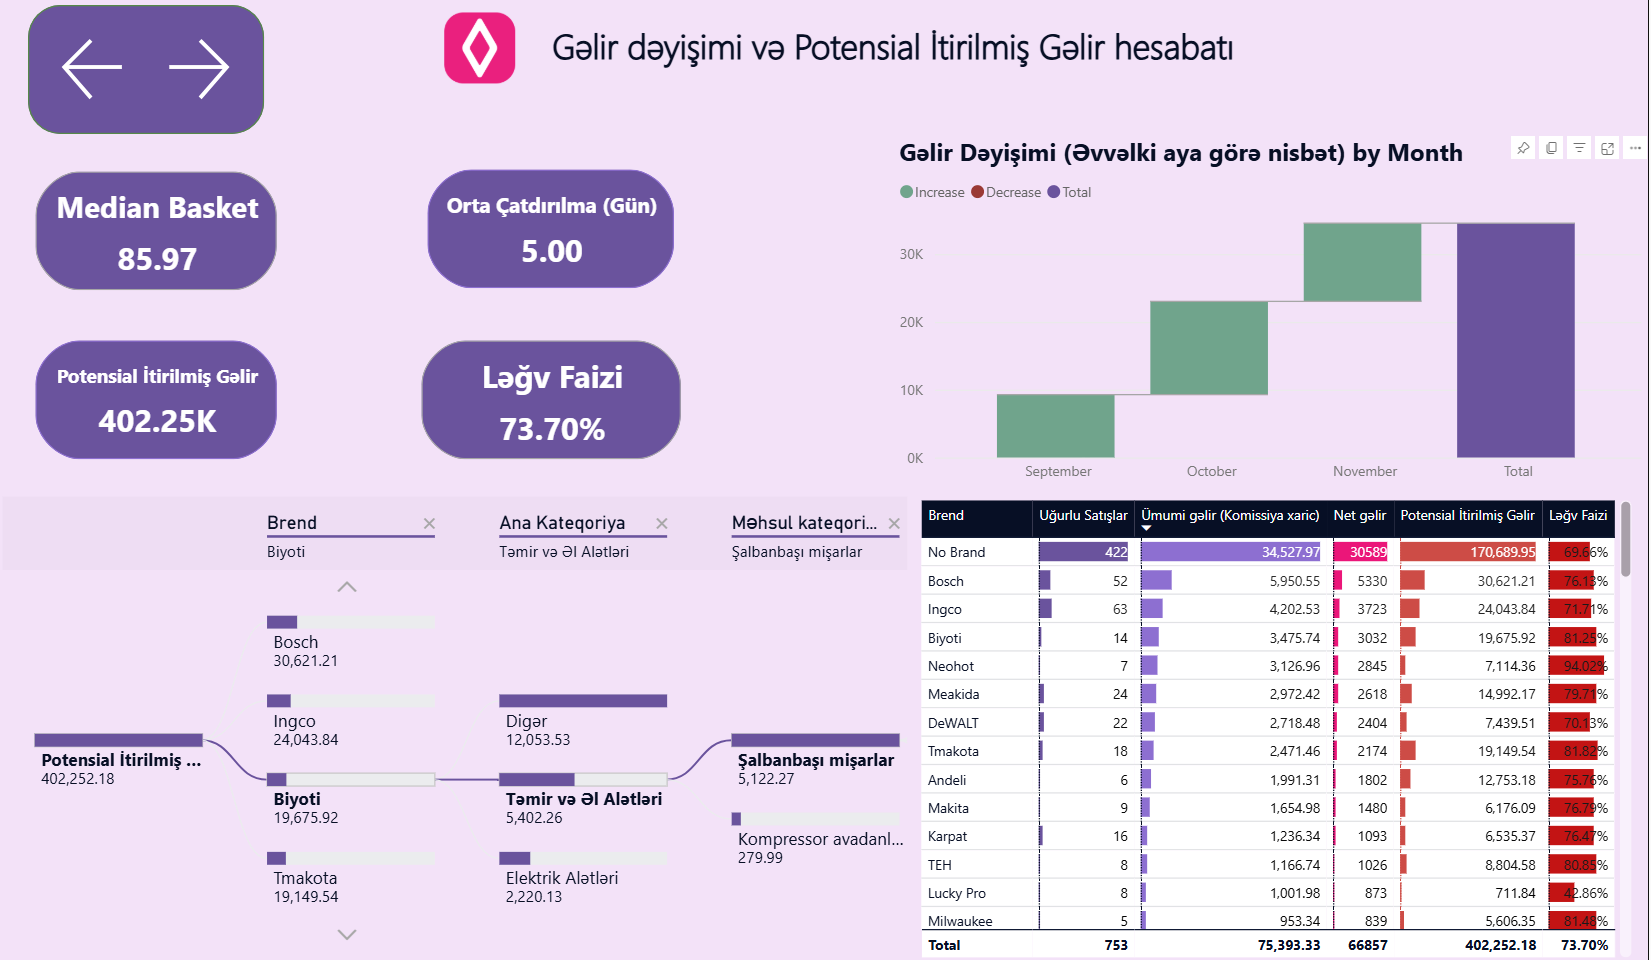

This screenshot's page, from the dashboard's own definition file:
{"tool":"powerbi","page":{"name":"Gəlir Hesabatı","canvas":[1280,750],"ordinal":1},"visuals":[{"type":"shape","box":[25,7,183,100],"z":0},{"type":"actionButton","box":[46,27,81,59],"z":1000},{"type":"actionButton","box":[127,27,81,59],"z":2000},{"type":"cardVisual","fields":{"Data":["Export.Median Basket"]},"box":[25.5,130.8,197.7,102.1],"z":3000},{"type":"cardVisual","fields":{"Data":["Export.Orta Çatdırılma (Gün)"]},"box":[329.3,129.7,201.5,102.6],"z":4000},{"type":"cardVisual","fields":{"Data":["Export.Ləğv Faizi"]},"box":[324.3,261.5,211.6,102.1],"z":5000},{"type":"cardVisual","fields":{"Data":["Export.İtirilmiş Gəlir"]},"box":[25.5,261.5,197.7,102.1],"z":6000},{"type":"decompositionTreeVisual","fields":{"Analyze":["Export.İtirilmiş Gəlir"],"ExplainBy":["Export.Brend","Export.Ana Kateqoriya","Export.Məhsul kateqoriyasının adı (AZ)","Export.Sifarişin statusu"]},"box":[0,382.7,711.2,366.8],"z":7000},{"type":"waterfallChart","fields":{"Category":["DateTable.Date.Variation.Date Hierarchy.Month"],"Y":["Export.Gəlir Dəyişimi (MoM)"]},"box":[695.3,107.4,584.7,278.5],"z":8000},{"type":"textbox","box":[381.7,14.9,626.2,115.9],"z":9000},{"type":"tableEx","fields":{"Values":["Export.Brend","Export.Uğurlu Satışlar","Export.Ümumi gəlir (Komissiya xaric)","Export.Net gəlir","Export.İtirilmiş Gəlir","Export.Ləğv Faizi"]},"box":[711.2,385.9,561.3,363.6],"z":10000},{"type":"image","box":[329.3,7.5,91.4,65.3],"z":11000}]}

Visuals, with their boxes in screenshot pixels (x1, y1, x2, y2), scaled from the page's 1280x750 canvas onto the 1651x960 screenshot:
shape: select_region(32, 9, 268, 137)
actionButton: select_region(59, 35, 164, 110)
actionButton: select_region(164, 35, 268, 110)
cardVisual - Export.Median Basket: select_region(33, 167, 288, 298)
cardVisual - Export.Orta Çatdırılma (Gün): select_region(425, 166, 685, 297)
cardVisual - Export.Ləğv Faizi: select_region(418, 335, 691, 465)
cardVisual - Export.İtirilmiş Gəlir: select_region(33, 335, 288, 465)
decompositionTreeVisual - Export.İtirilmiş Gəlir x Export.Brend: select_region(0, 490, 917, 959)
waterfallChart - DateTable.Date.Variation.Date Hierarchy.Month x Export.Gəlir Dəyişimi (MoM): select_region(897, 137, 1650, 494)
textbox: select_region(492, 19, 1300, 167)
tableEx - Export.Brend x Export.Uğurlu Satışlar: select_region(917, 494, 1641, 959)
image: select_region(425, 10, 543, 93)
